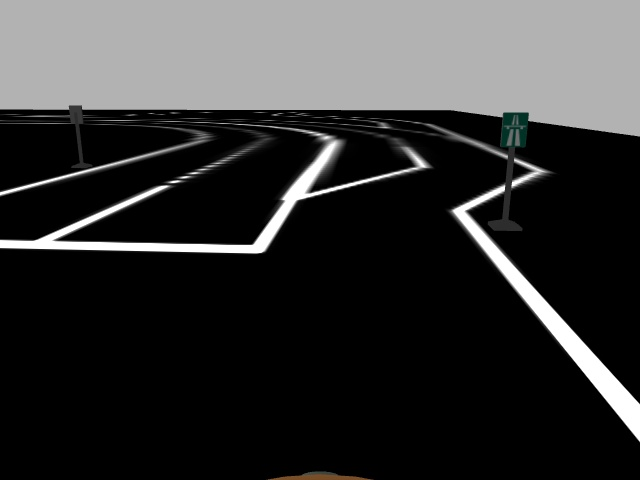enter_highway: (498, 111, 529, 149)
